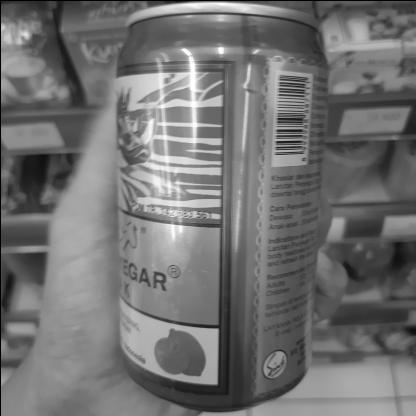alumunium_can: (113, 0, 329, 416)
